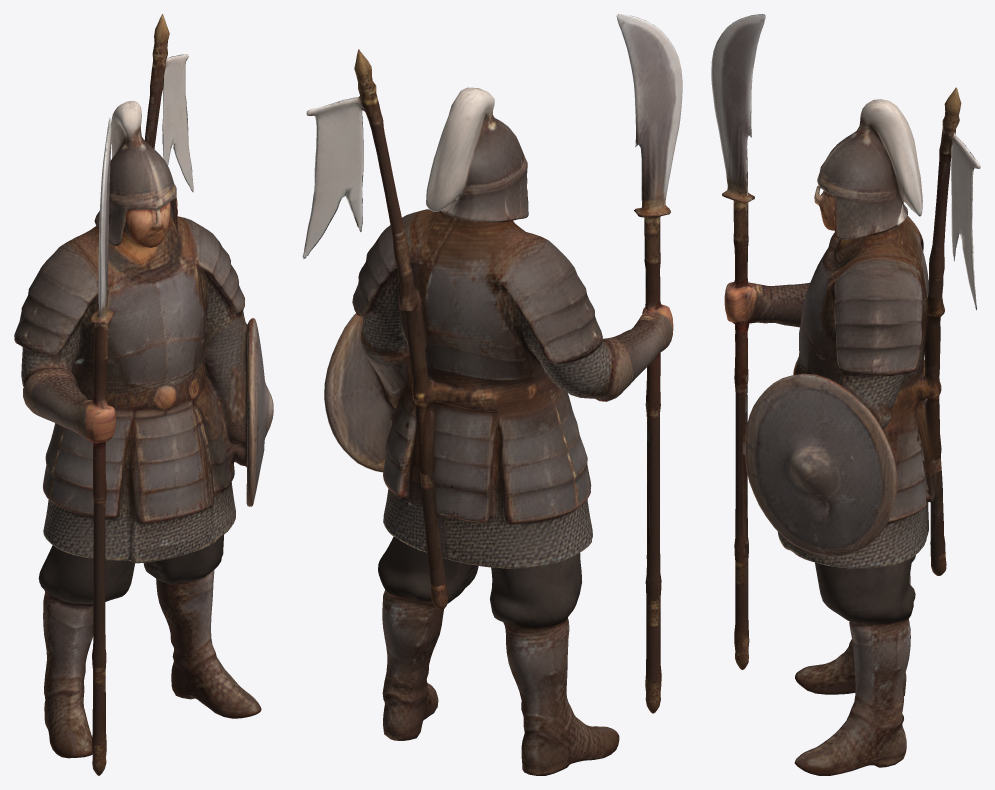
Rendered from look-armor-t4-rodin.glb.
3 renders of one model, left to right at view 1: azimuth 30°, elevation 25°; view 2: azimuth 150°, elevation 25°; view 3: azimuth 270°, elevation 25°, orthographic. The views are drawn at different scales.
Parts seen in each view (by area): view 1: model; view 2: model; view 3: model.
Boxes of the visible parts, x1=… form: model: x1=14, y1=14, x2=273, y2=775; model: x1=302, y1=14, x2=682, y2=775; model: x1=711, y1=14, x2=980, y2=775.
Size of the model in its own units: 0.7687 by 1.9 by 0.6859.
1 material, 1 textured.
